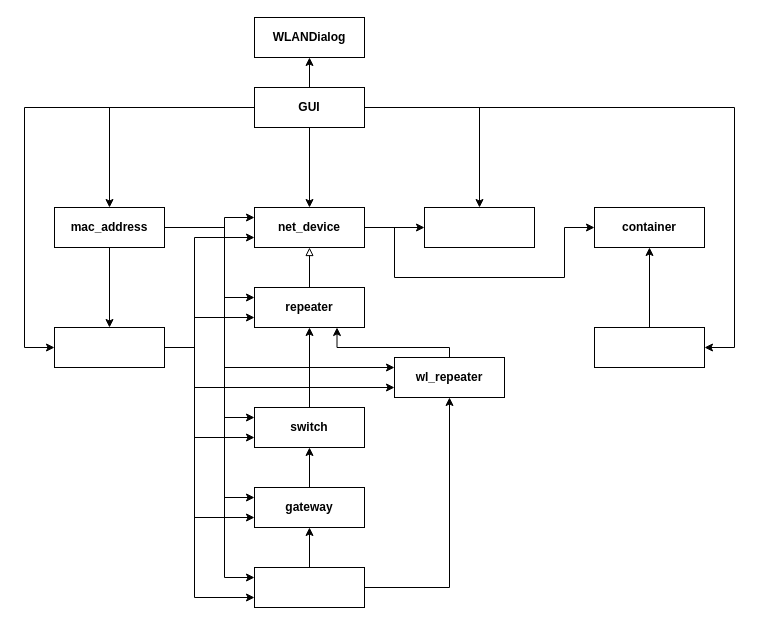
This 760x625 diagram has some shape labels left out. Here are the shapes that lost their labels. From the top down, the centre of each, then its label:
point 479,227: server_room
point 109,347: client
point 649,347: data_center
point 309,587: router
